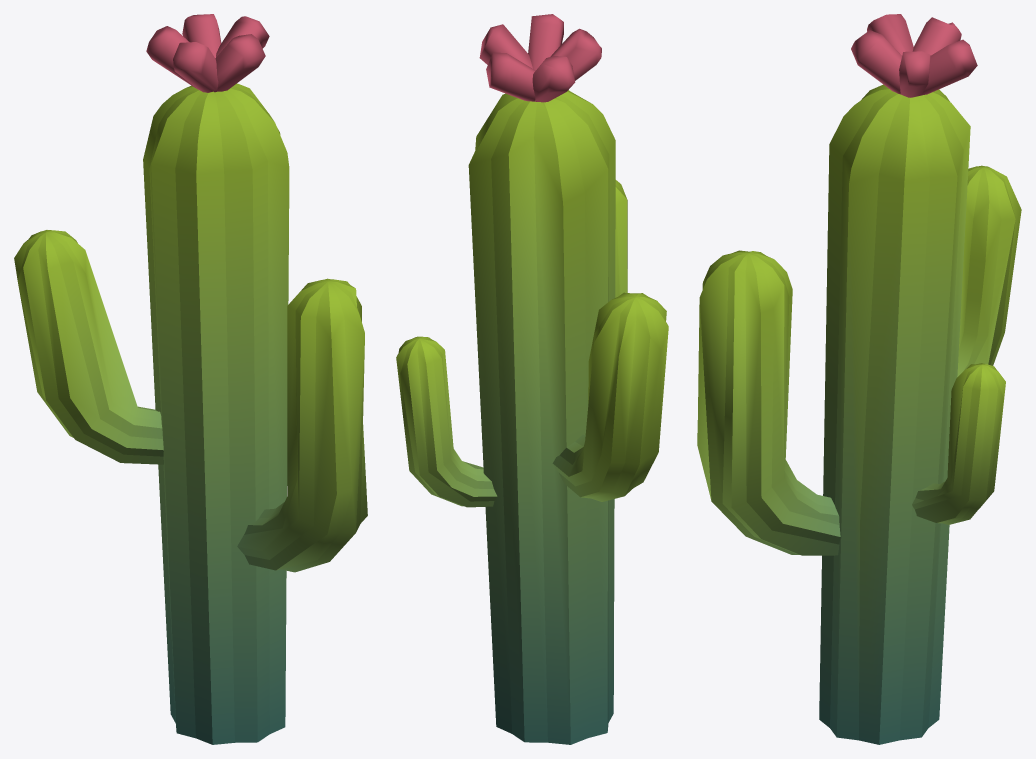
3 renders of one model, left to right at view 1: azimuth 30°, elevation 25°; view 2: azimuth 150°, elevation 25°; view 3: azimuth 270°, elevation 25°, orthographic. The views are drawn at different scales.
Visible parts, largest first — view 1: LOD 2_671c7c3c-1d38-5405-9914-5278f2c1c3b1; view 2: LOD 2_671c7c3c-1d38-5405-9914-5278f2c1c3b1; view 3: LOD 2_671c7c3c-1d38-5405-9914-5278f2c1c3b1.
Boxes of the visible parts, x1,y1,x2,y2 form: LOD 2_671c7c3c-1d38-5405-9914-5278f2c1c3b1: (14,14,367,744); LOD 2_671c7c3c-1d38-5405-9914-5278f2c1c3b1: (396,14,668,744); LOD 2_671c7c3c-1d38-5405-9914-5278f2c1c3b1: (697,14,1021,744).
Bounding box in the file's own units: 1.06 × 2.66 × 1.13.
